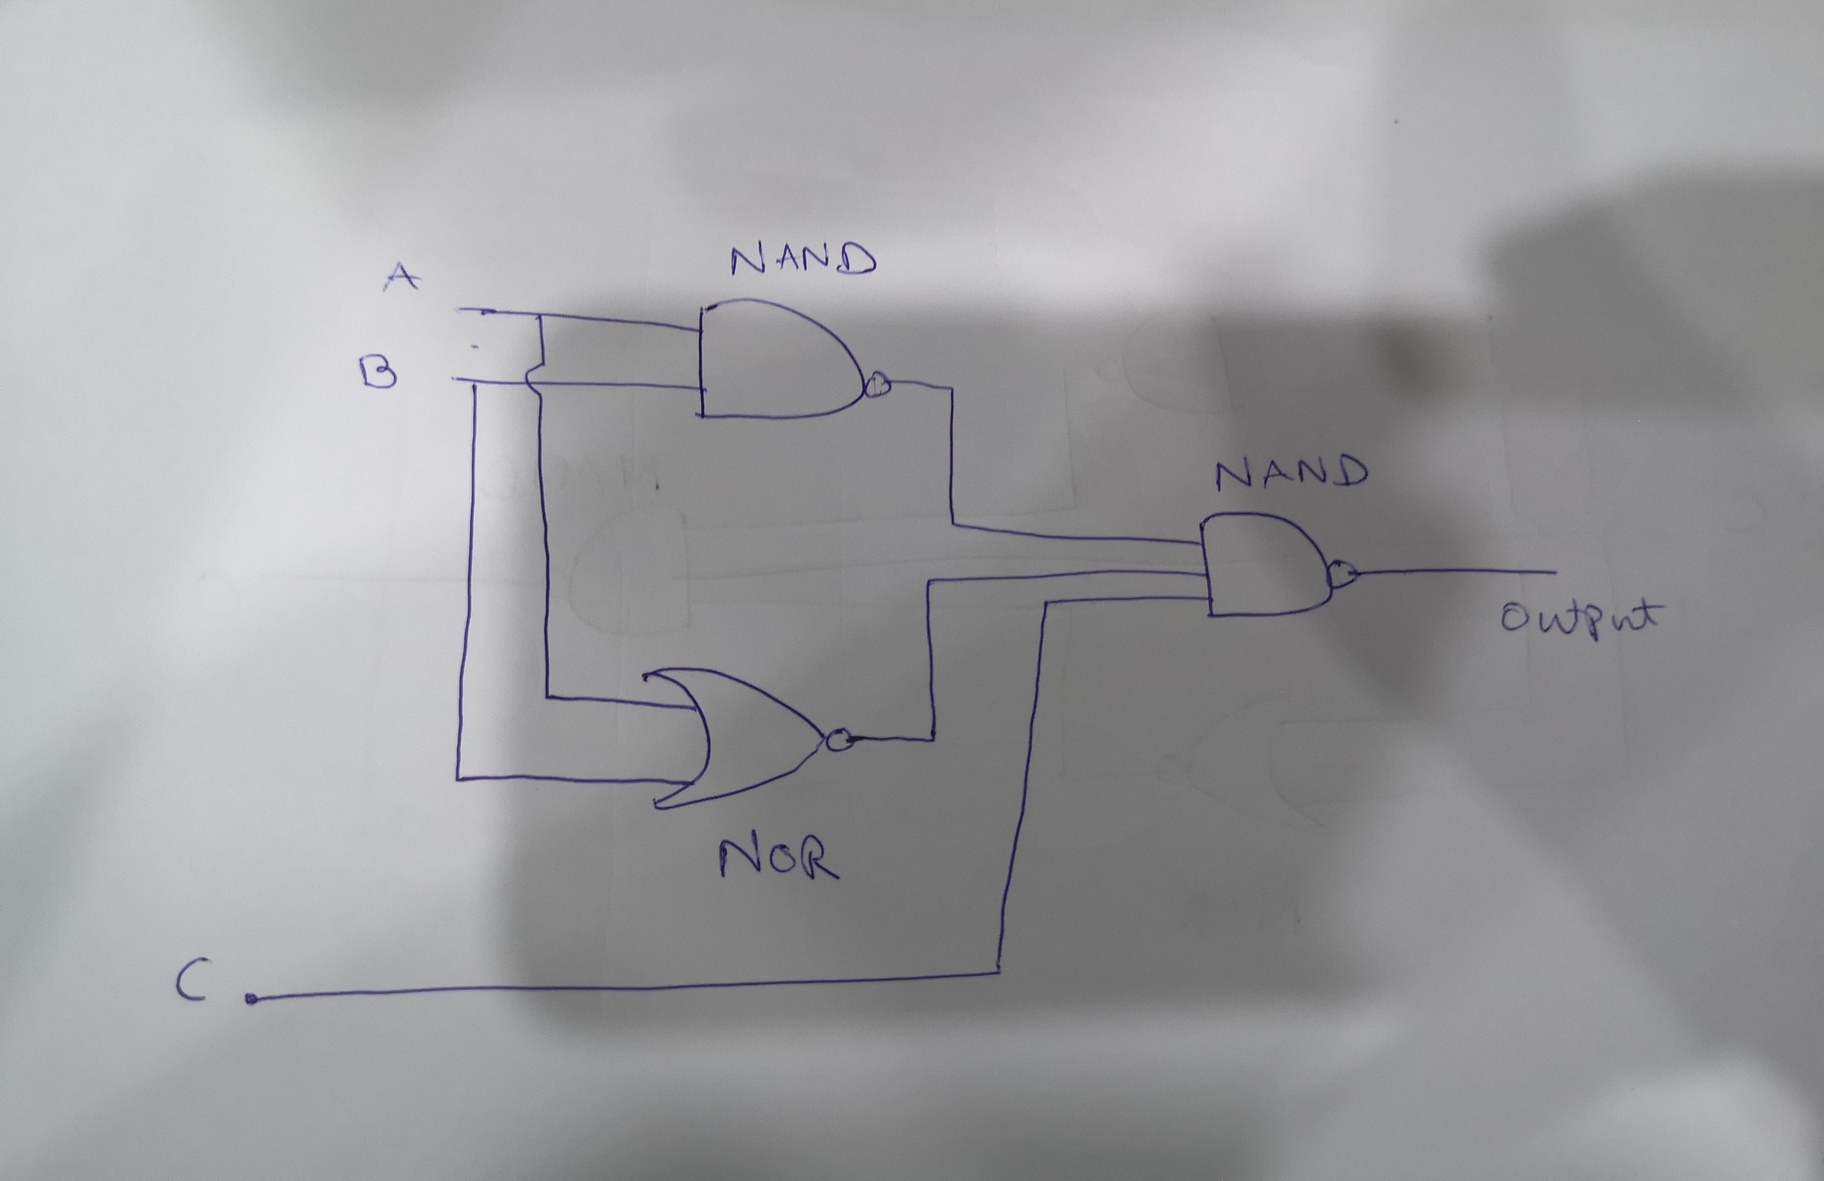crossover: (520, 360, 548, 402)
junction: (919, 720, 947, 754), (939, 509, 964, 537), (985, 960, 1012, 985), (937, 375, 963, 399), (1034, 590, 1056, 612), (536, 686, 557, 706), (467, 372, 487, 392), (919, 572, 939, 590), (449, 770, 468, 787), (529, 306, 548, 322)
nand: (689, 291, 899, 428), (1197, 504, 1363, 622)
nor: (638, 654, 861, 815)
terminal: (237, 985, 265, 1013), (1539, 560, 1565, 583), (451, 298, 471, 319), (447, 371, 464, 387)
text: (1498, 590, 1663, 648), (719, 829, 843, 890), (1211, 450, 1372, 495), (725, 234, 877, 279), (171, 950, 219, 1004), (354, 350, 400, 392), (378, 258, 420, 295)
